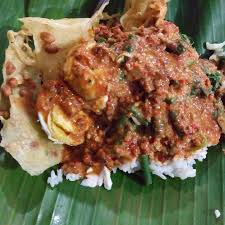Nasi pecel: (6, 4, 223, 187)
